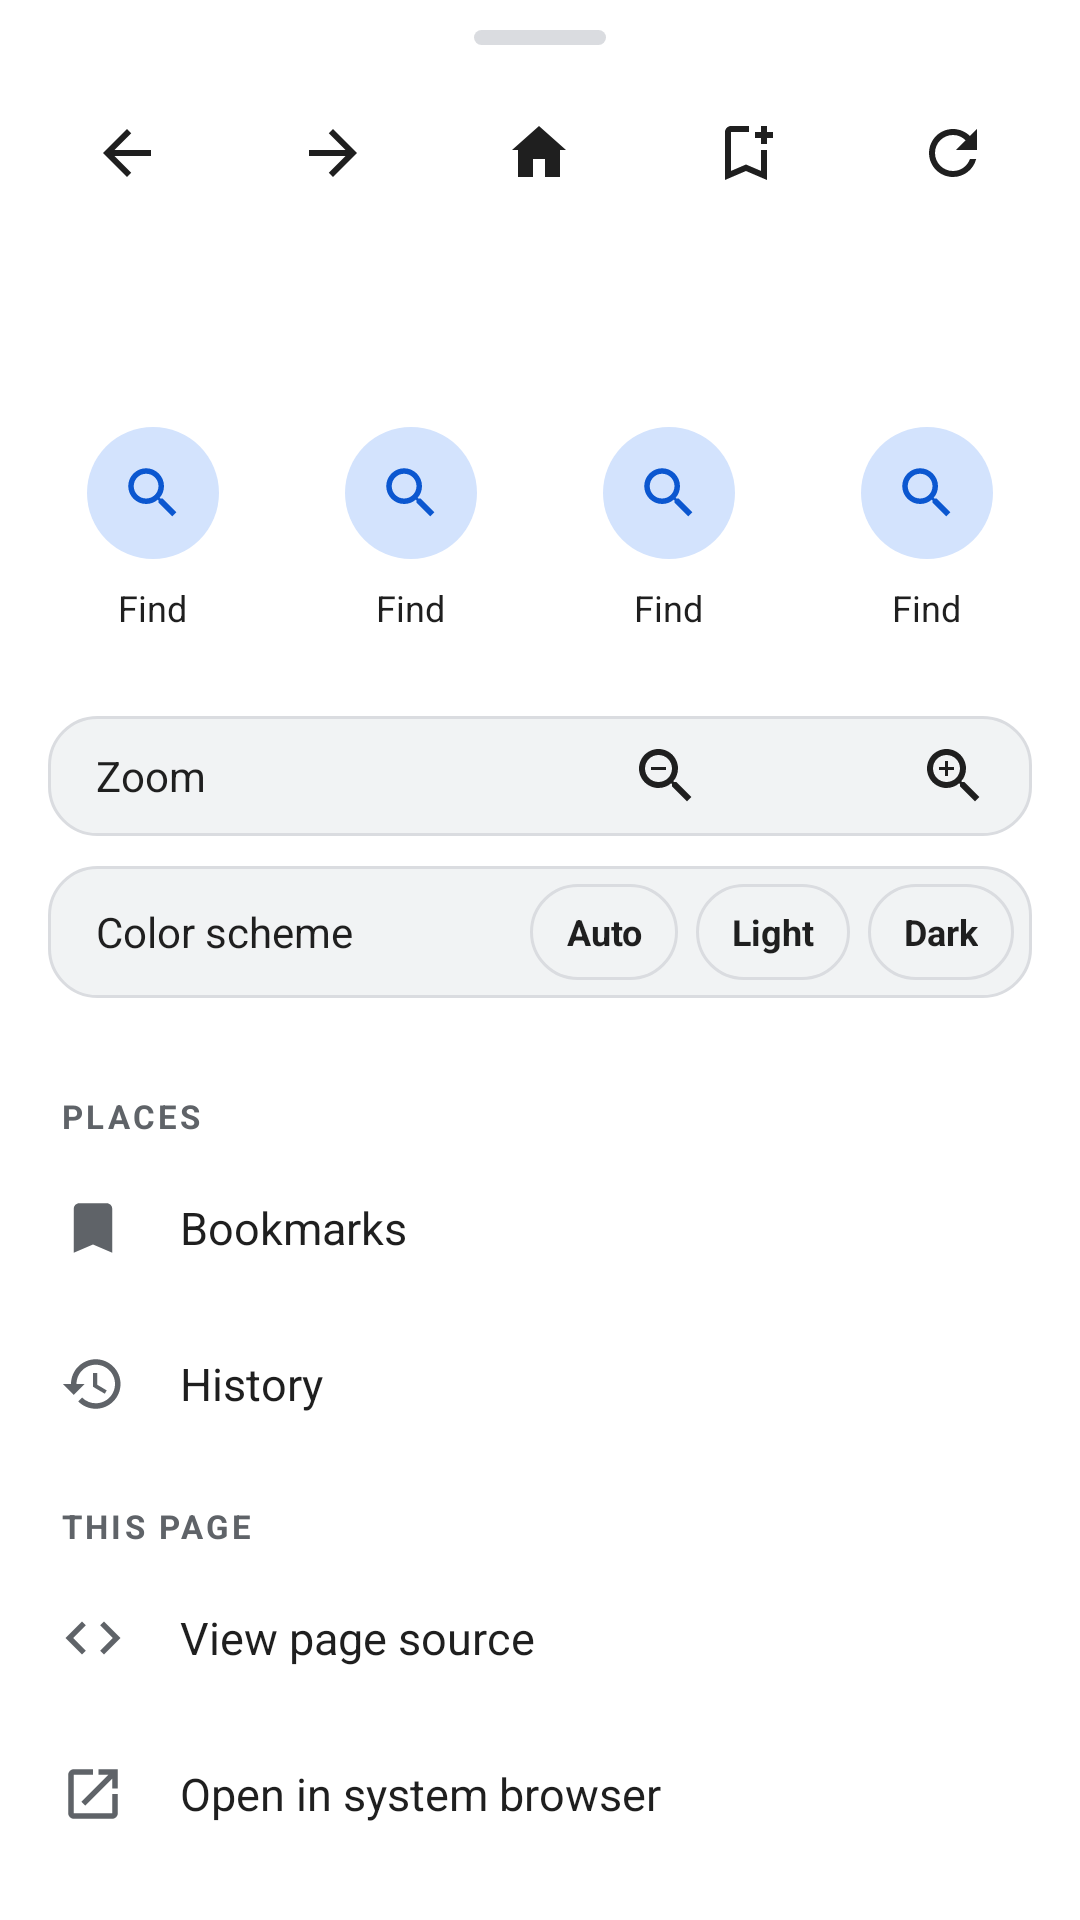

Screen size 1080 x 1920. Icon name, then its box in pixels as (x1, y1, x2, y2):
Back: (103, 129, 151, 177)
external: (68, 1769, 118, 1819)
Forward: (309, 129, 357, 177)
Home: (512, 126, 566, 177)
Reload: (929, 129, 977, 177)
Zoom in: (927, 749, 979, 801)
